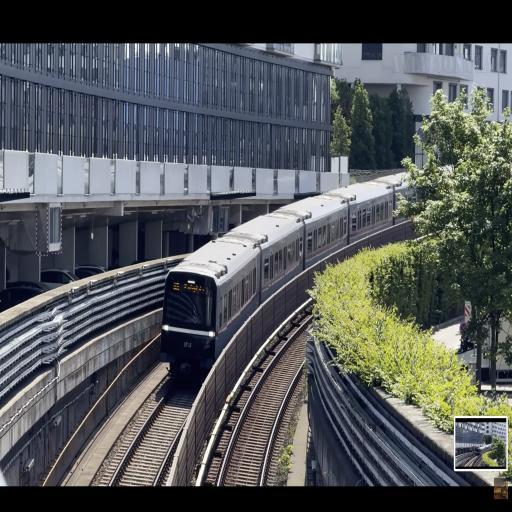X-Wagen: (162, 173, 396, 390)
